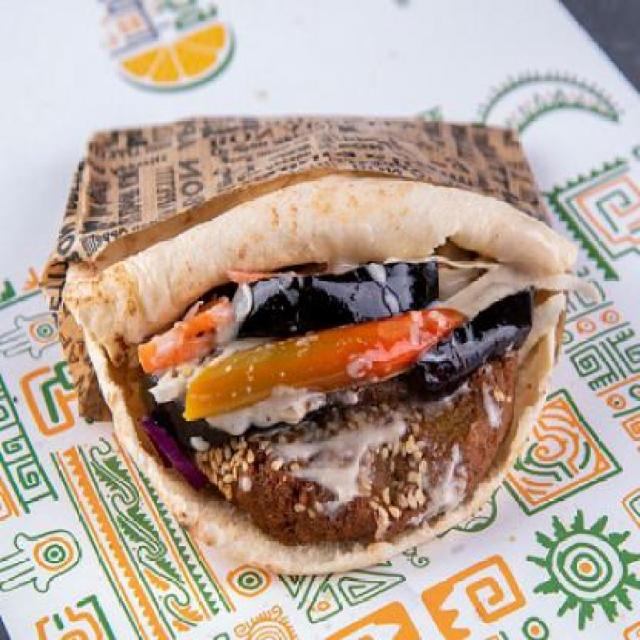eggplant: (225, 255, 550, 390)
falafel: (220, 357, 523, 538)
hummus: (227, 380, 407, 480), (150, 322, 267, 396)
